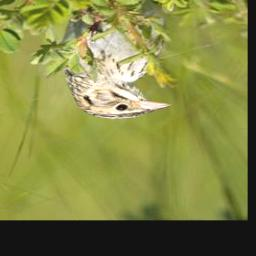Sparrow: (50, 0, 171, 120)
